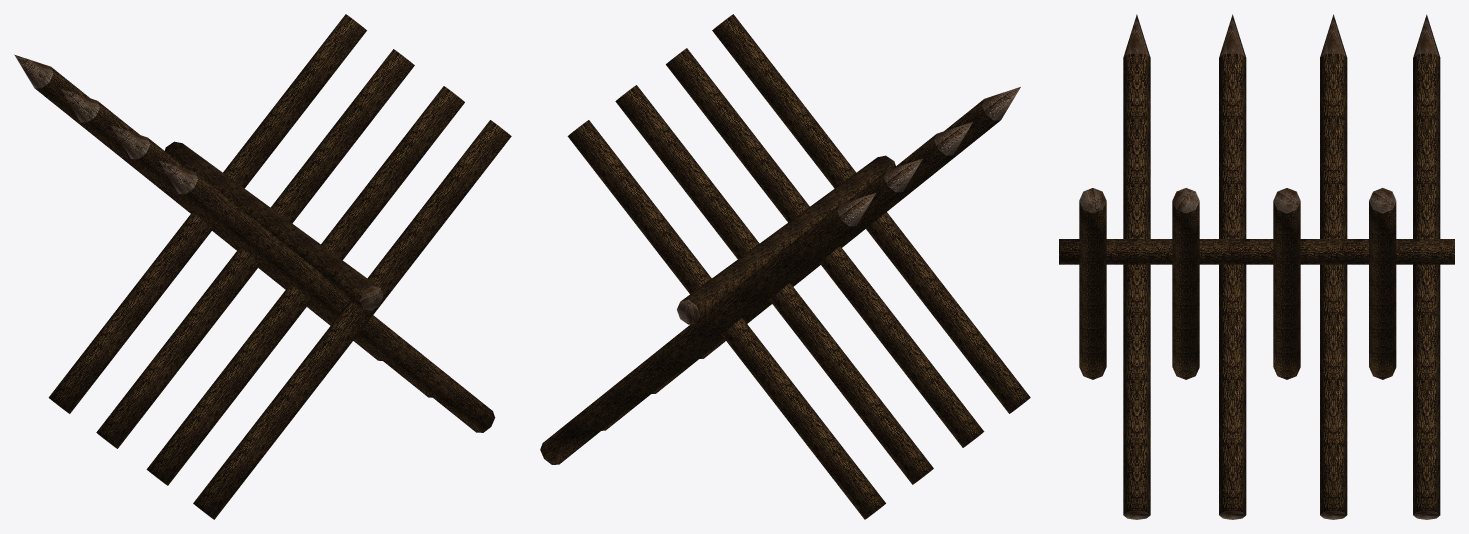
File: Barrier 2.fbx
The picture shows the model from 3 angles, left to right: view 1: azimuth 30°, elevation 25°; view 2: azimuth 150°, elevation 25°; view 3: azimuth 270°, elevation 25°; orthographic projection.
Visible parts, largest first — view 1: Barrier 2; view 2: Barrier 2; view 3: Barrier 2.
Boxes of the visible parts, bbox=[...] form: Barrier 2: bbox=[14, 14, 511, 519]; Barrier 2: bbox=[540, 14, 1030, 519]; Barrier 2: bbox=[1059, 14, 1454, 519].
Size of the model in its own units: 1.48 by 1.48 by 1.51.
